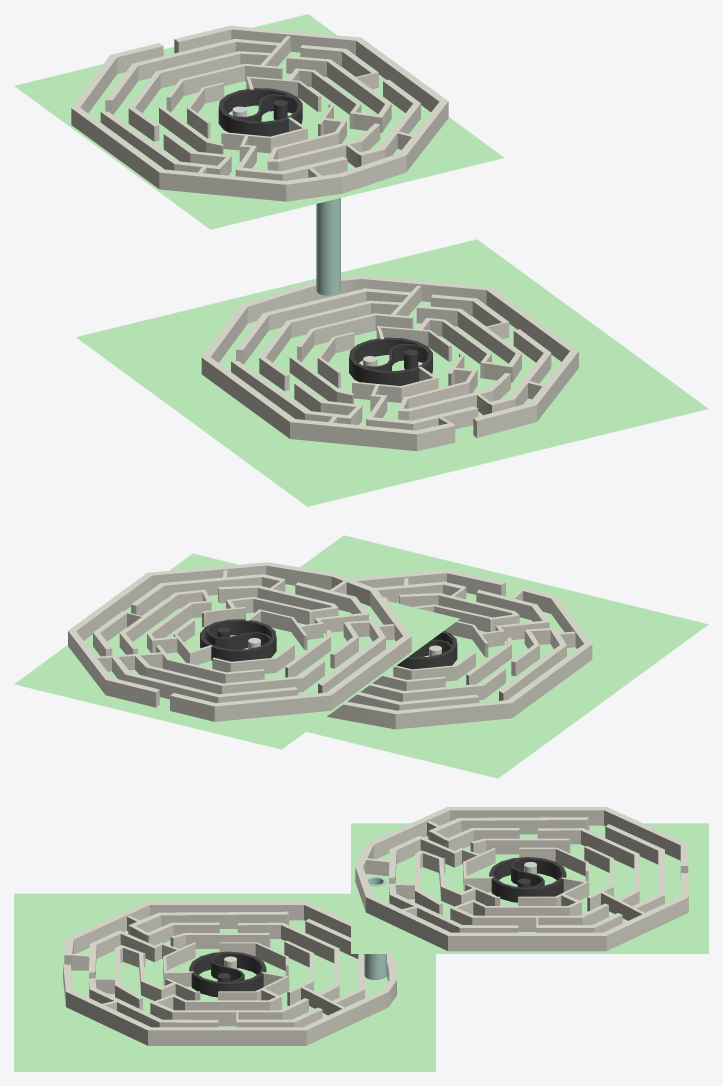
File: m迷宫(2)(3).fbx
The picture shows the model from 3 angles, top to bottom: view 1: azimuth 30°, elevation 25°; view 2: azimuth 150°, elevation 25°; view 3: azimuth 270°, elevation 25°; orthographic projection. The views are drawn at different scales.
Parts seen in each view (by area): view 1: x下层d地面, 上迷宫主体, 下迷宫主体, s上层d地面, g管道; view 2: 上迷宫主体, x下层d地面, 下迷宫主体, s上层d地面; view 3: x下层d地面, 上迷宫主体, 下迷宫主体, s上层d地面, g管道.
Boxes of the visible parts, x1,y1,x2,y2 form: x下层d地面: [76, 239, 708, 506]; 上迷宫主体: [71, 25, 448, 201]; 下迷宫主体: [201, 275, 578, 451]; s上层d地面: [14, 14, 504, 229]; g管道: [316, 198, 340, 295]; 上迷宫主体: [68, 562, 411, 721]; x下层d地面: [300, 535, 708, 778]; 下迷宫主体: [327, 569, 592, 729]; s上层d地面: [14, 553, 459, 749]; x下层d地面: [14, 893, 435, 1071]; 上迷宫主体: [355, 807, 688, 951]; 下迷宫主体: [63, 901, 396, 1045]; s上层d地面: [351, 823, 708, 953]; g管道: [364, 876, 386, 979].
Bounding box in the file's own units: 2728 × 900 × 4492.
